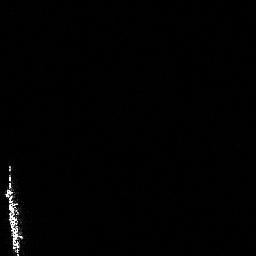ship: (2, 163, 29, 256)
